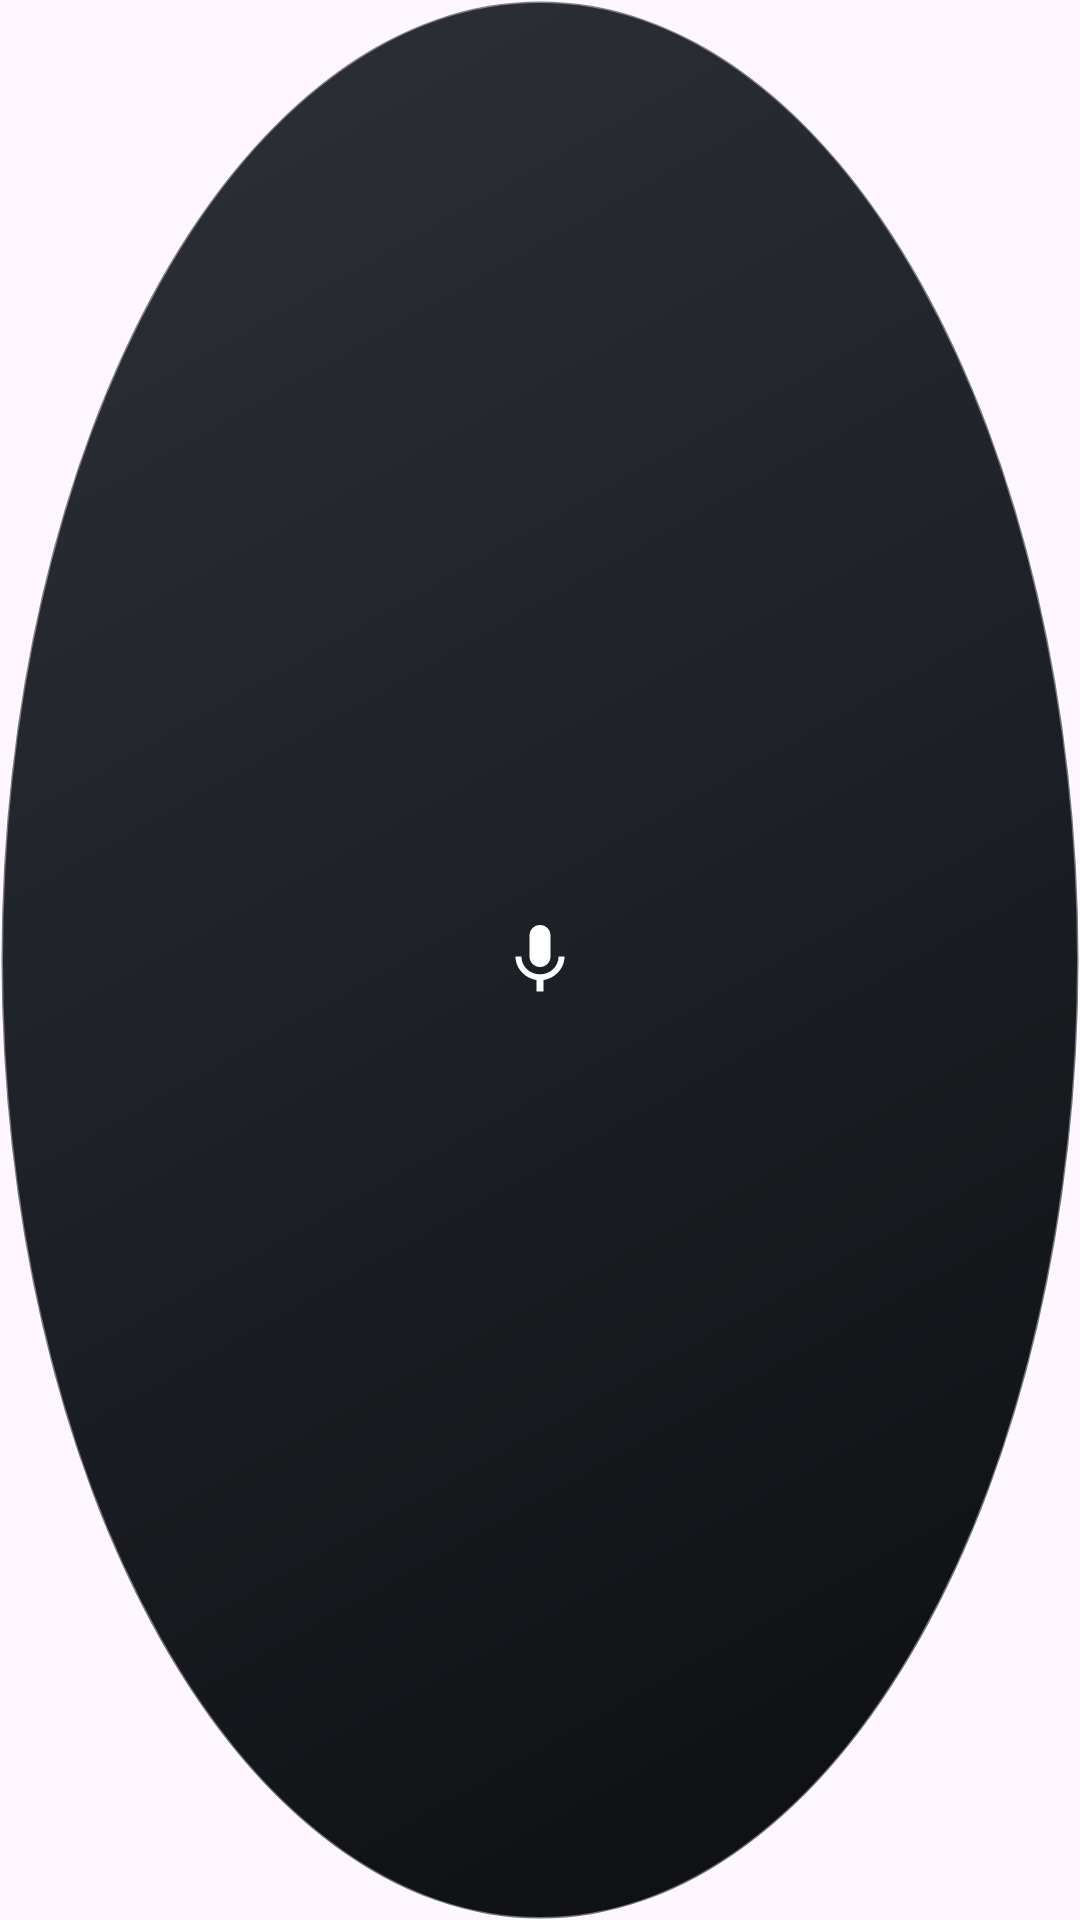

Named icons in this screenshot (1080px×1920px) and their centers, point (x, y):
语音输入悬浮球: point (540, 958)
